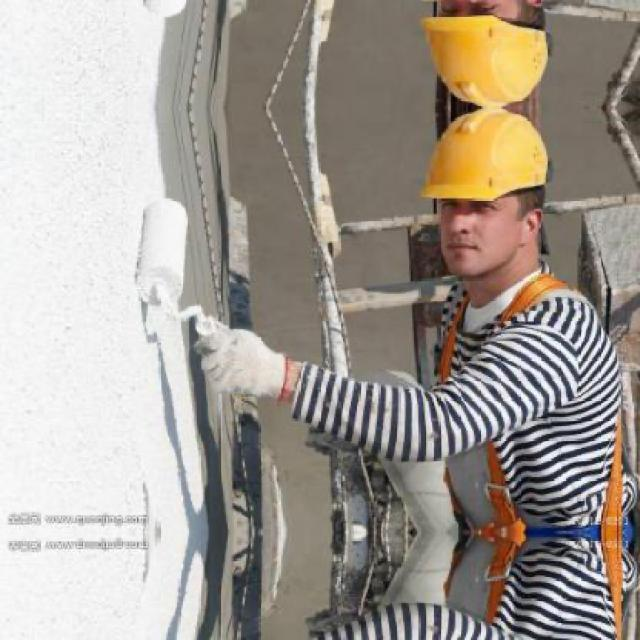helmet: (411, 107, 574, 296), (411, 0, 575, 108)
